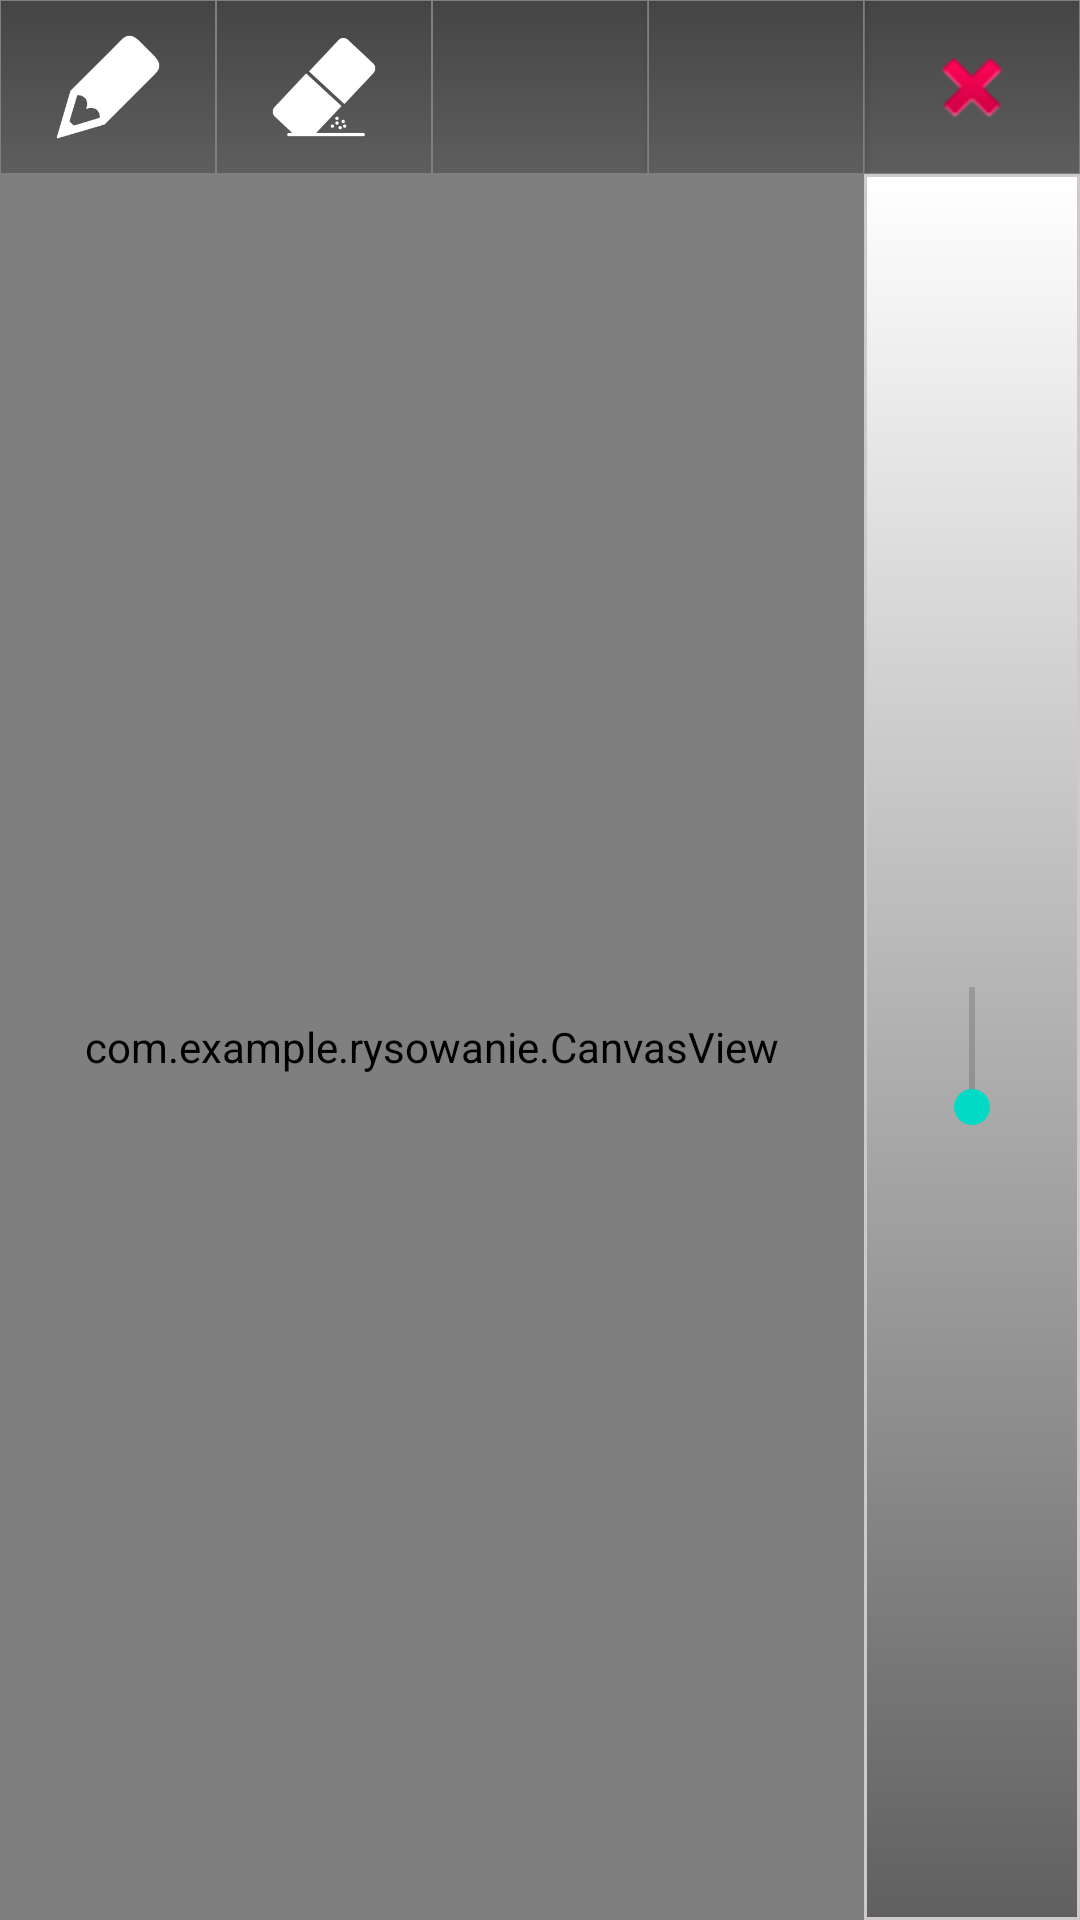

Locate icon controls on the screen. Image size 1080*1920, boxes as (x1, y1, x2, y2).
pencil: (1, 1, 215, 173)
rubber: (217, 1, 431, 173)
